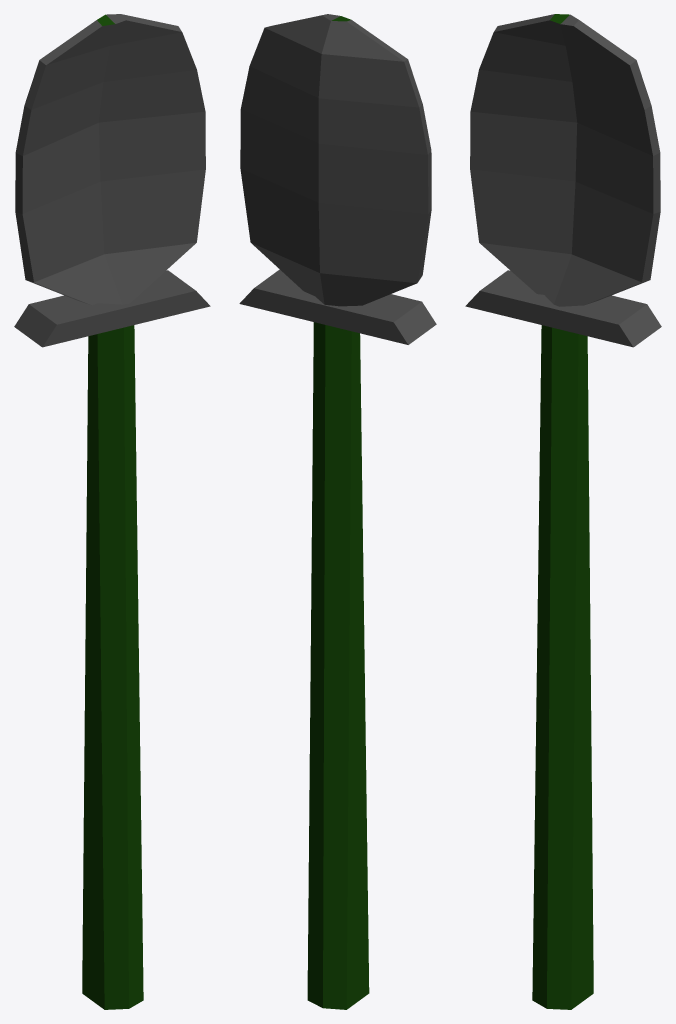
3 views of the same model, side by side, from view 1: azimuth 30°, elevation 25°; view 2: azimuth 150°, elevation 25°; view 3: azimuth 330°, elevation 25° (orthographic).
Visible parts, largest first — view 1: Cube; view 2: Cube; view 3: Cube.
Part boxes in pixels (x1=…): Cube: x1=14, y1=14, x2=210, y2=1009; Cube: x1=239, y1=14, x2=436, y2=1009; Cube: x1=465, y1=14, x2=661, y2=1009.
Size of the model in its own units: 149 by 745 by 49.57.
